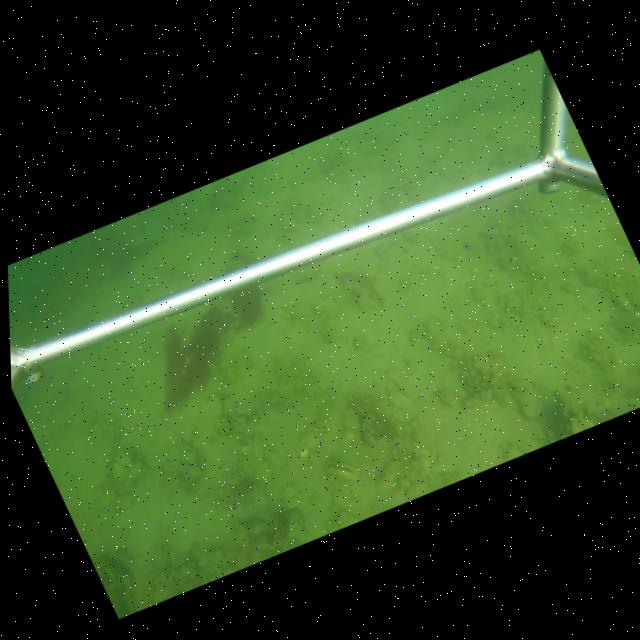Oyster-Open: (323, 458, 360, 481)
